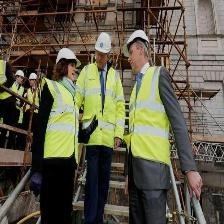Person: (72, 32, 125, 224), (120, 28, 171, 224), (37, 47, 83, 224)
helmet: (55, 47, 81, 71), (125, 28, 151, 51), (94, 32, 113, 56), (15, 69, 25, 80), (29, 72, 38, 81)
vest: (128, 61, 164, 166), (81, 64, 123, 150), (42, 81, 78, 165), (25, 86, 40, 114), (14, 84, 25, 117)
